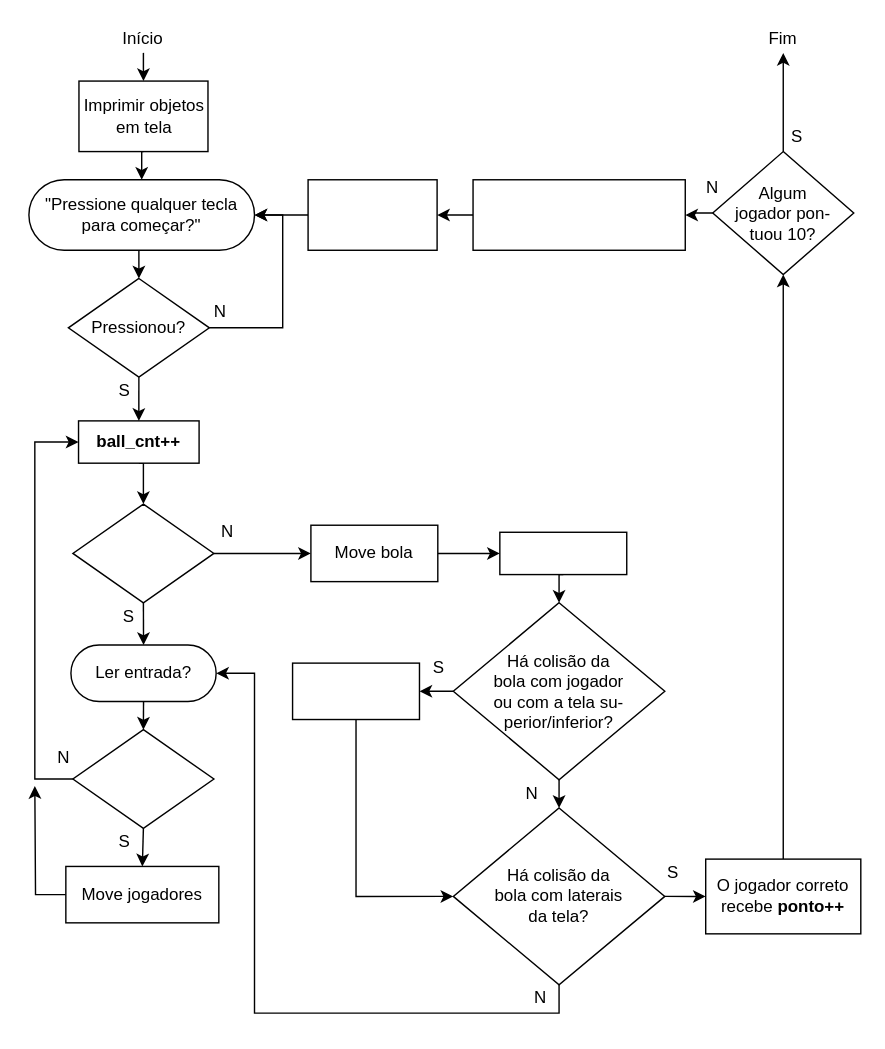
The diagram is 885 pixels wide and 1049 high, and some of its shapes have lost their labels. Each missing label, with the box of its shape:
ball_cnt< velocity: (71, 503, 214, 603)
ball_cnt=0: (498, 531, 627, 575)
Gerar posição aleatória próxima ao centro para a bola: (472, 178, 685, 250)
Há entrada?: (71, 728, 214, 828)
Rebate a bola: (291, 662, 419, 720)
Reposicionar objetos: (307, 178, 437, 250)
